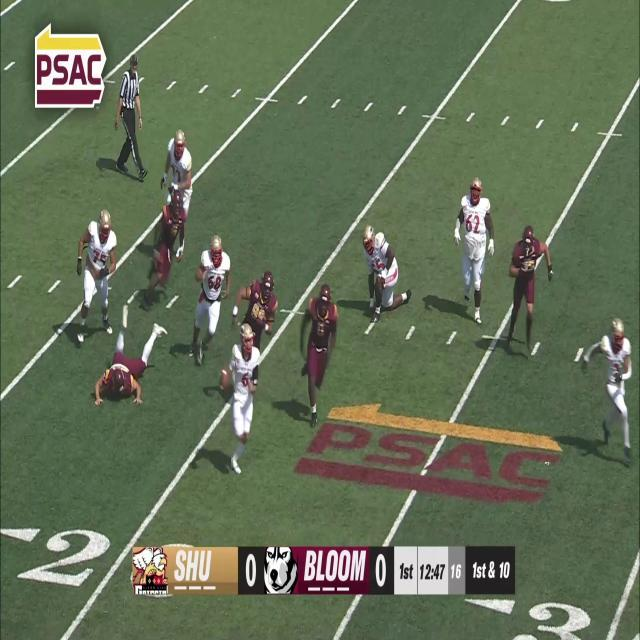football: (218, 366, 230, 394)
